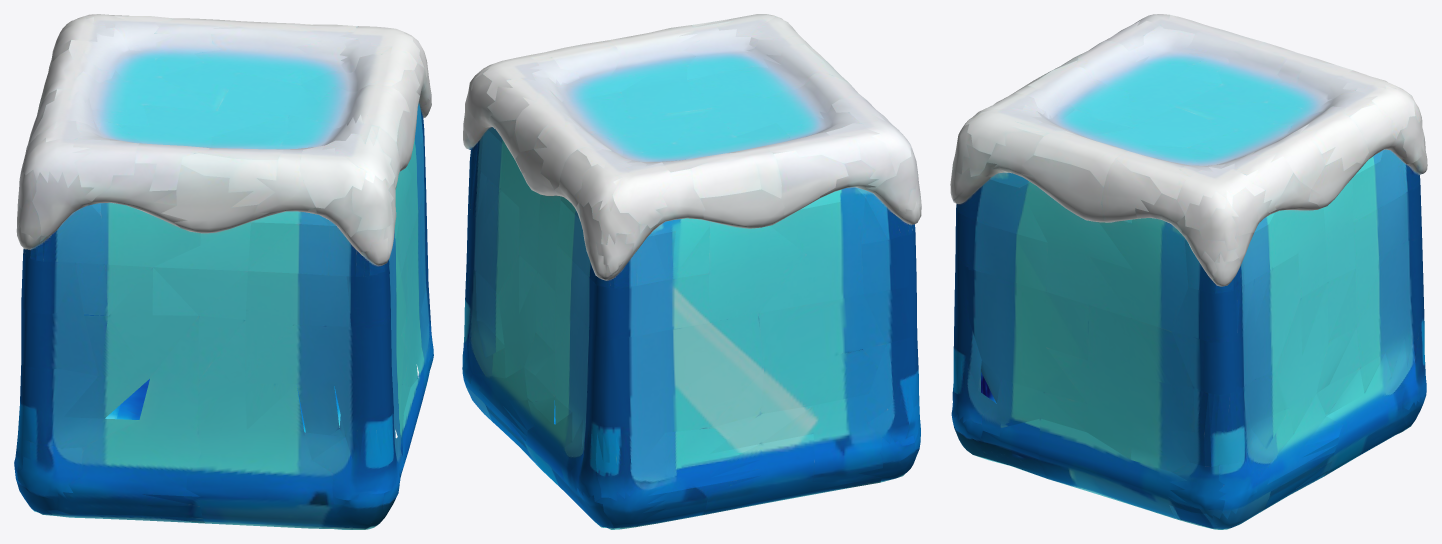
File: BlueIceBlock.glb
3 views of the same model, side by side, from view 1: azimuth 30°, elevation 25°; view 2: azimuth 150°, elevation 25°; view 3: azimuth 270°, elevation 25° (orthographic). The views are drawn at different scales.
Parts seen in each view (by area): view 1: Mesh::generatedModels/dcTk4o4YpDipjISzAUUU.gltf; view 2: Mesh::generatedModels/dcTk4o4YpDipjISzAUUU.gltf; view 3: Mesh::generatedModels/dcTk4o4YpDipjISzAUUU.gltf.
Boxes of the visible parts, bbox=[...] form: Mesh::generatedModels/dcTk4o4YpDipjISzAUUU.gltf: bbox=[14, 14, 433, 529]; Mesh::generatedModels/dcTk4o4YpDipjISzAUUU.gltf: bbox=[462, 14, 921, 529]; Mesh::generatedModels/dcTk4o4YpDipjISzAUUU.gltf: bbox=[950, 14, 1427, 529].
Bounding box in the file's own units: 1.27 × 1 × 1.27.
1 material, 1 textured.
